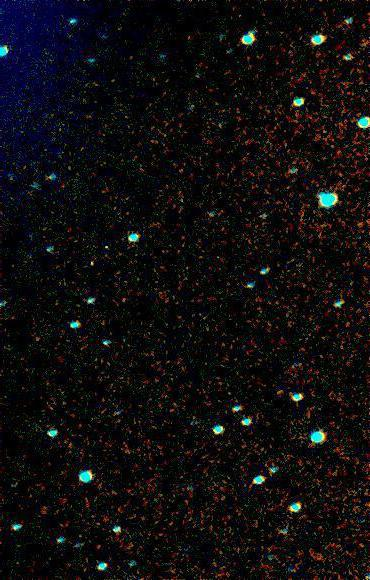star: (79, 248, 109, 278)
